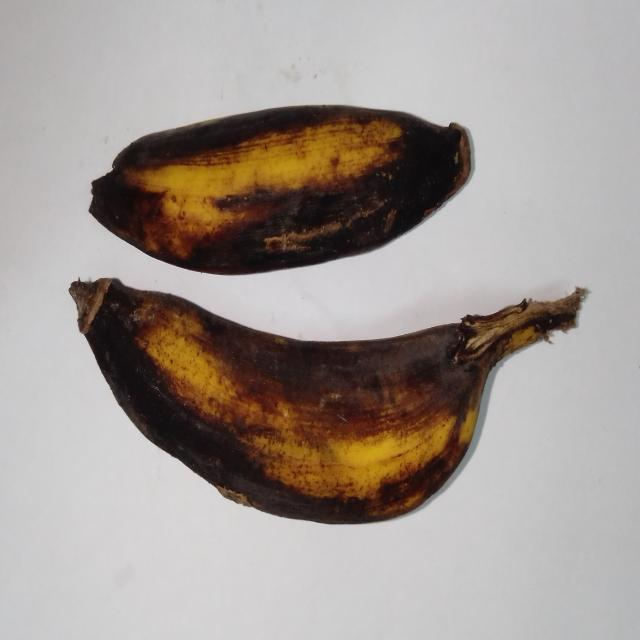banana: (70, 279, 585, 523), (90, 106, 471, 274)
